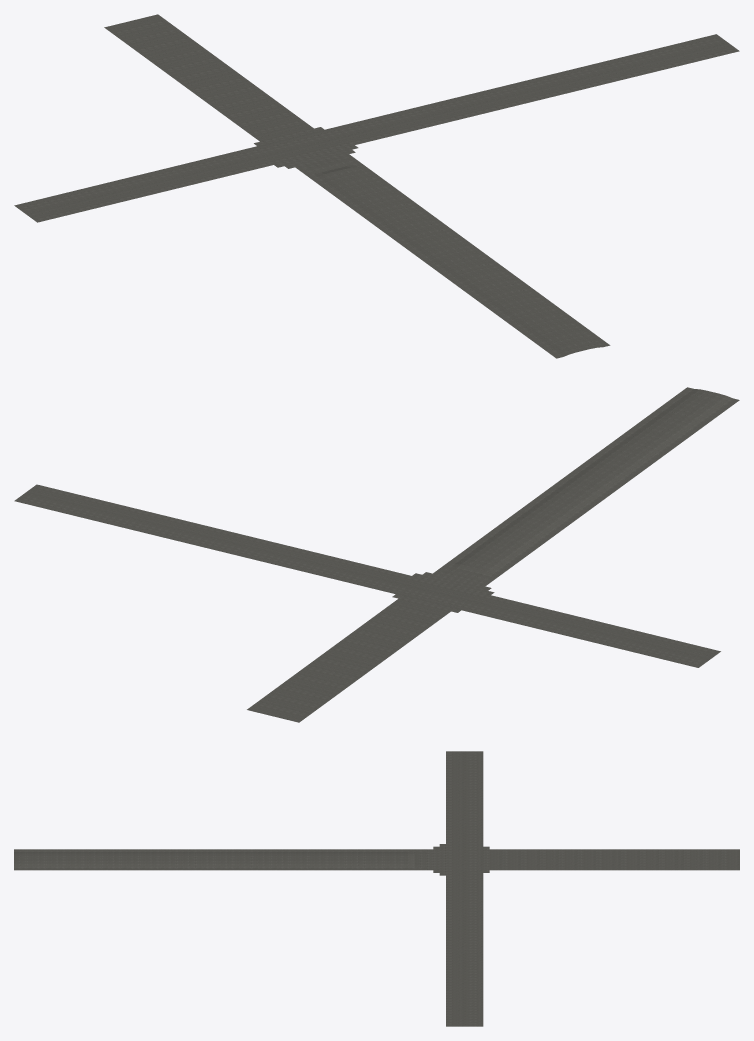
File: Asphalt_Laprida y Cañada.fbx
3 views of the same model, one above another, from view 1: azimuth 30°, elevation 25°; view 2: azimuth 150°, elevation 25°; view 3: azimuth 270°, elevation 25° (orthographic). The views are drawn at different scales.
Parts seen in each view (by area): view 1: streetAsphalt_MarceloTAlvear.009, streetAsphalt_MarceloTAlvear.014, streetAsphalt_MarceloTAlvear.010; view 2: streetAsphalt_MarceloTAlvear.009, streetAsphalt_MarceloTAlvear.014, streetAsphalt_MarceloTAlvear.010; view 3: streetAsphalt_MarceloTAlvear.009, streetAsphalt_MarceloTAlvear.014, streetAsphalt_MarceloTAlvear.010.
Boxes of the visible parts, x1=… form: streetAsphalt_MarceloTAlvear.009: x1=14, y1=34, x2=739, y2=222; streetAsphalt_MarceloTAlvear.014: x1=274, y1=145, x2=610, y2=358; streetAsphalt_MarceloTAlvear.010: x1=104, y1=14, x2=324, y2=145; streetAsphalt_MarceloTAlvear.009: x1=14, y1=484, x2=720, y2=667; streetAsphalt_MarceloTAlvear.014: x1=412, y1=387, x2=739, y2=594; streetAsphalt_MarceloTAlvear.010: x1=247, y1=594, x2=460, y2=722; streetAsphalt_MarceloTAlvear.009: x1=446, y1=751, x2=483, y2=1026; streetAsphalt_MarceloTAlvear.014: x1=14, y1=844, x2=445, y2=875; streetAsphalt_MarceloTAlvear.010: x1=483, y1=846, x2=739, y2=872.
Bounding box in the file's own units: 208 × 0.3945 × 232.
